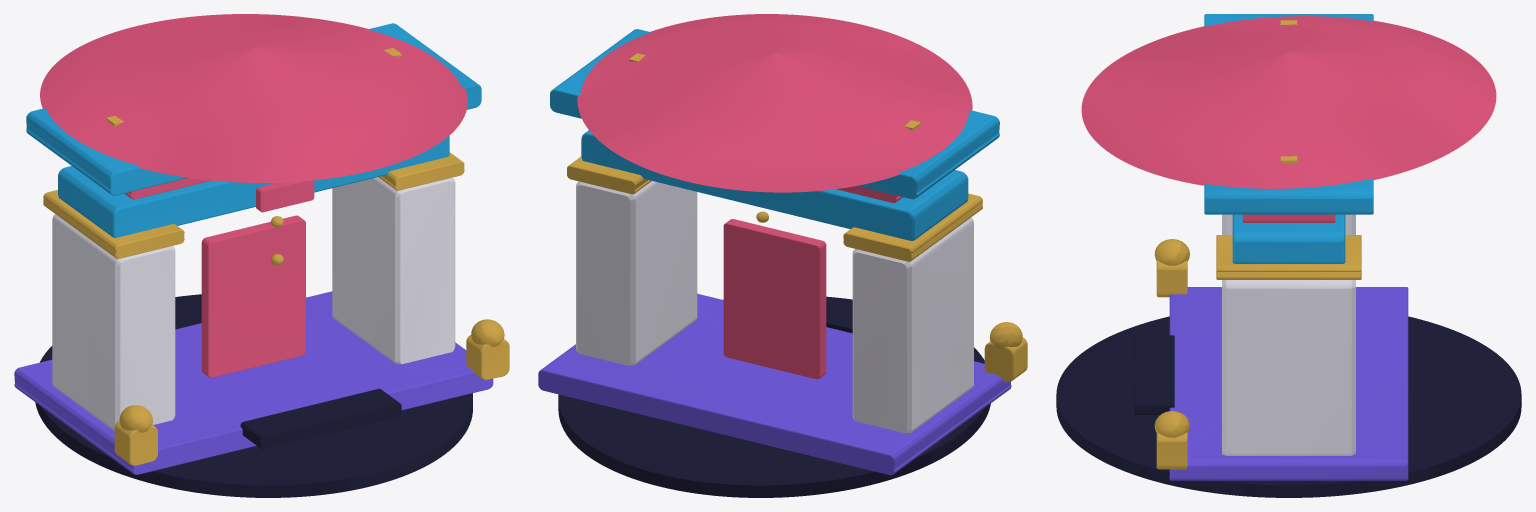
Rendered from 1253_三国演义1_吕布·白门楼.glb.
3 renders of one model, left to right at view 1: azimuth 30°, elevation 25°; view 2: azimuth 150°, elevation 25°; view 3: azimuth 270°, elevation 25°, orthographic.
Parts seen in each view (by area): view 1: card_1253; view 2: card_1253; view 3: card_1253.
Boxes of the visible parts, x1=… form: card_1253: x1=14, y1=14, x2=509, y2=497; card_1253: x1=538, y1=14, x2=1027, y2=497; card_1253: x1=1056, y1=14, x2=1521, y2=497.
Size of the model in its own units: 1.13 by 1 by 1.19.
